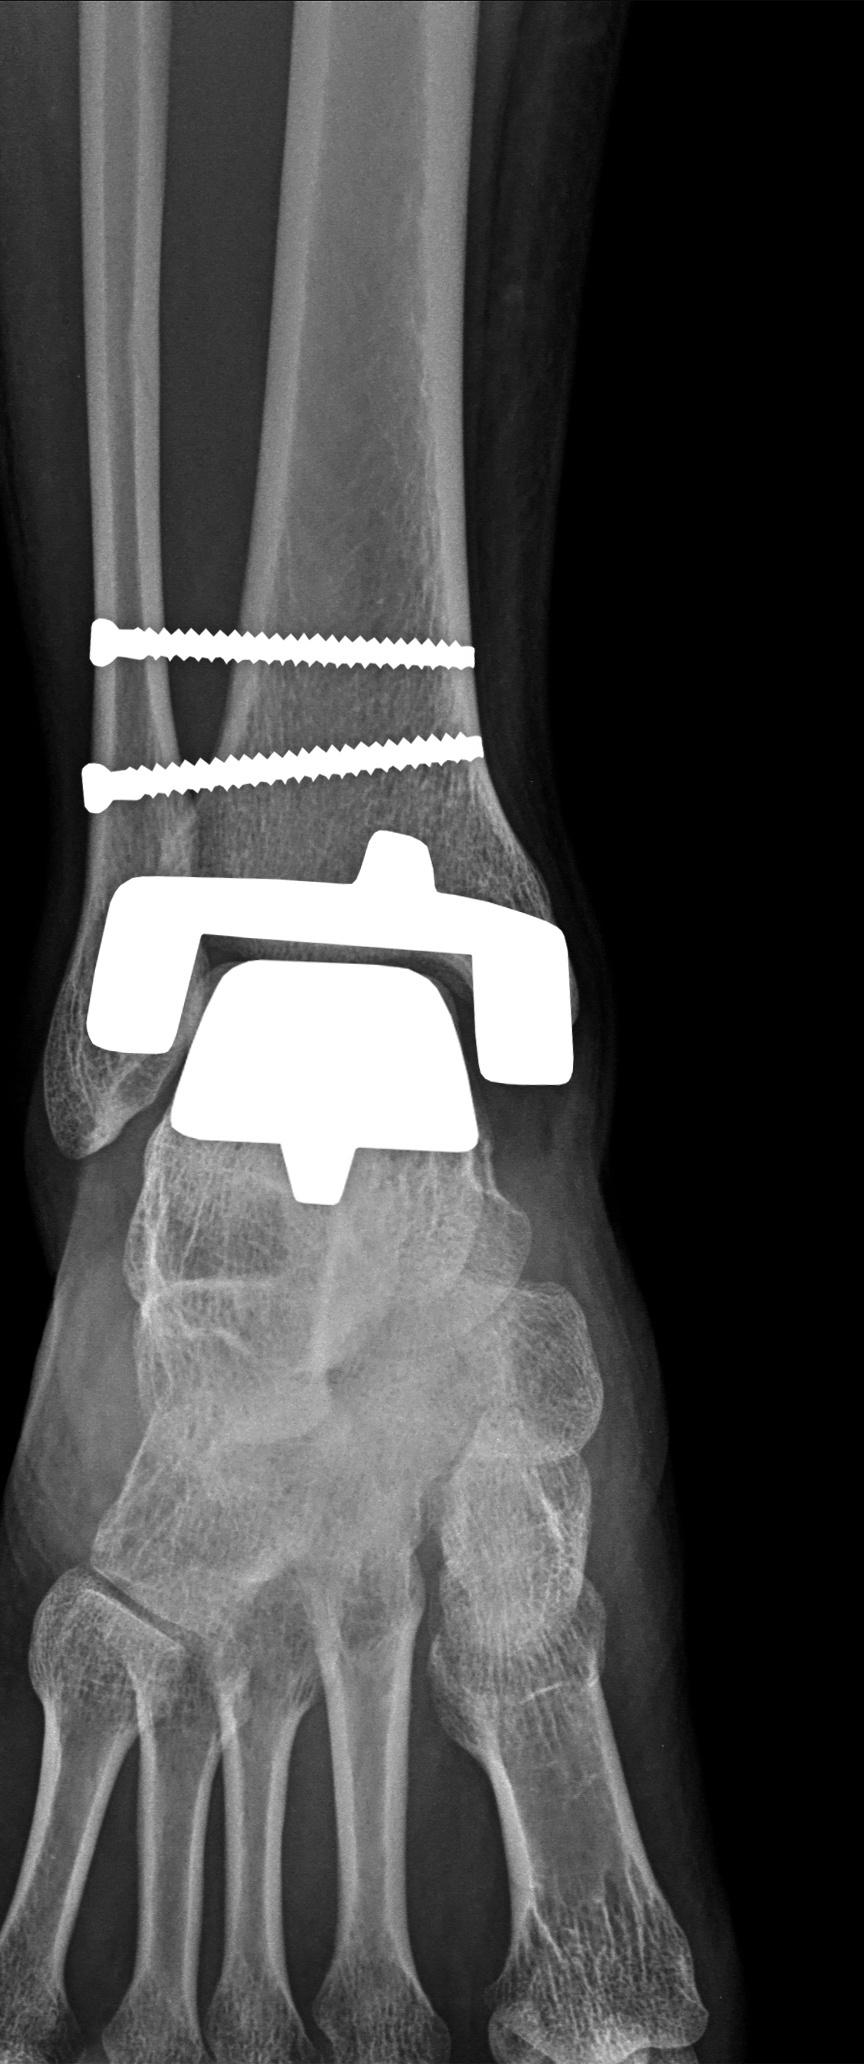Ankle - Agility - DePuy: (51, 608, 585, 1233)
